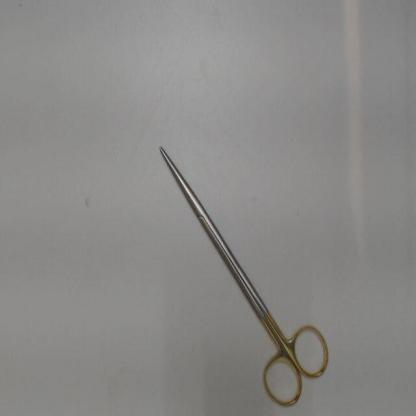7 Metzenbaum Scissors: (159, 143, 332, 408)
